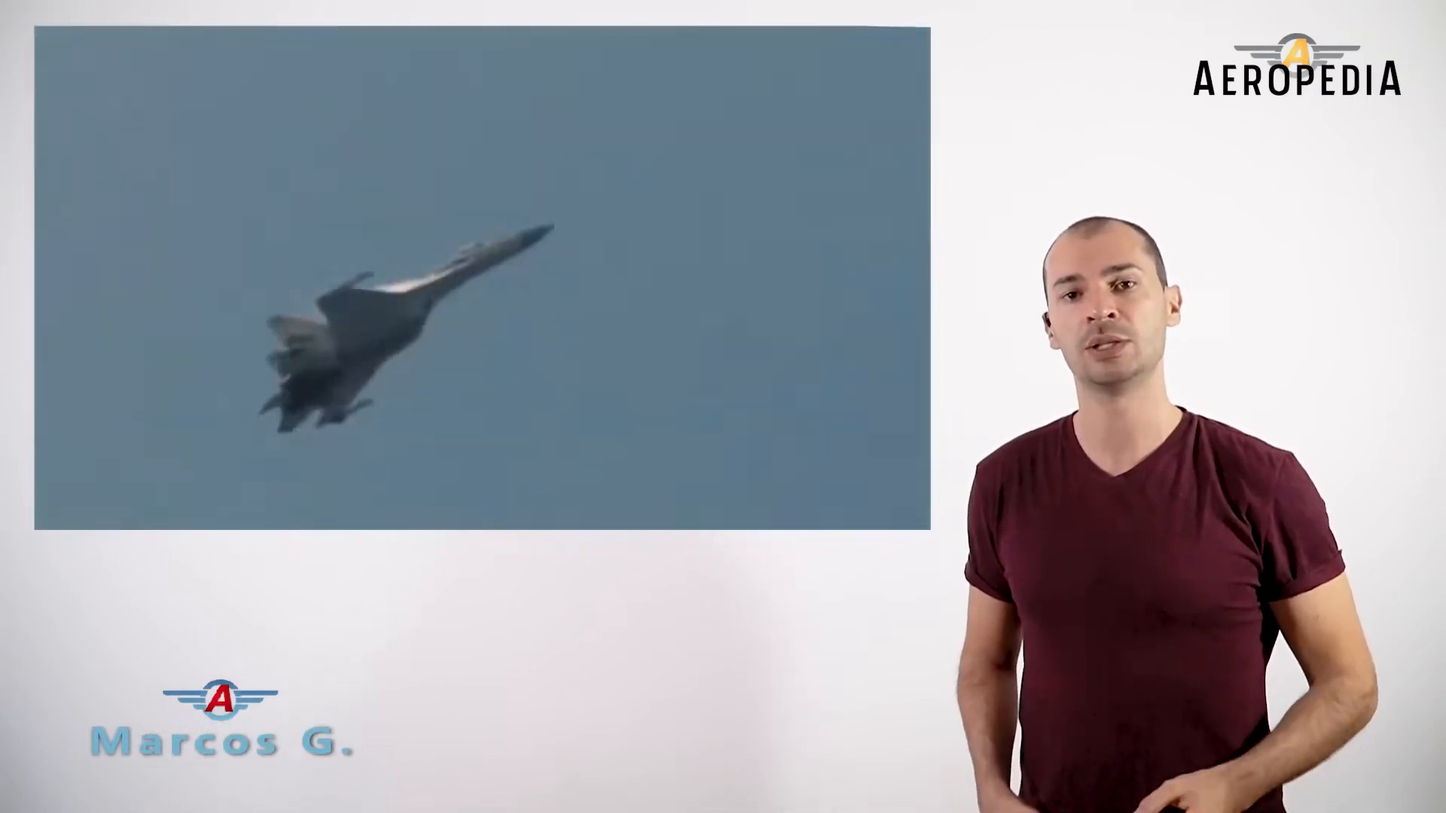Su35: (255, 223, 555, 434)
